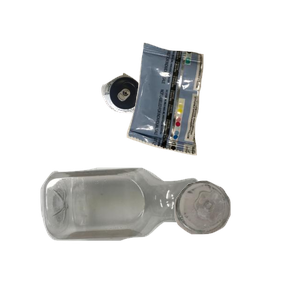glass: (172, 178, 300, 300)
metal: (99, 70, 236, 176)
plastic: (38, 165, 255, 300)
trash: (124, 40, 300, 188)
